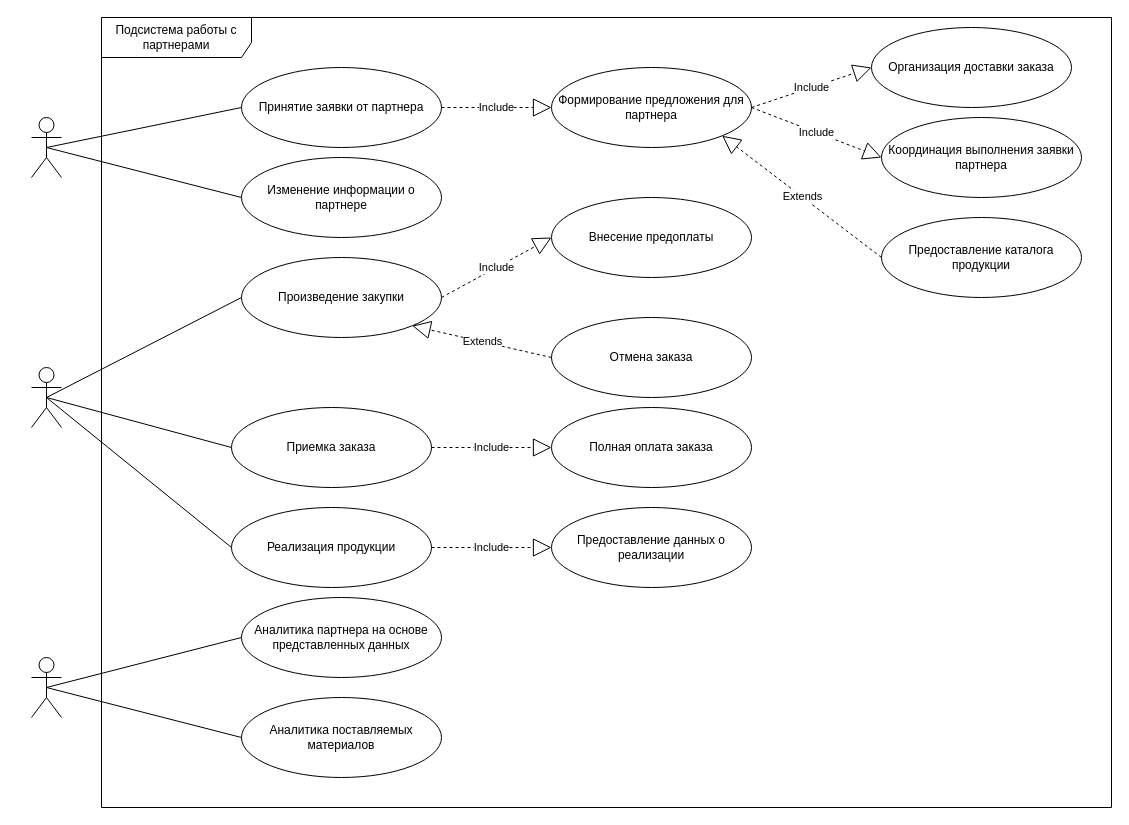
This 1129x825 diagram has some shape labels left out. Here are the shapes that lost their labels. From the top down, the centre of each, then its label:
point (46, 147): Менеджер
point (46, 397): Партнер
point (46, 687): Аналитик
